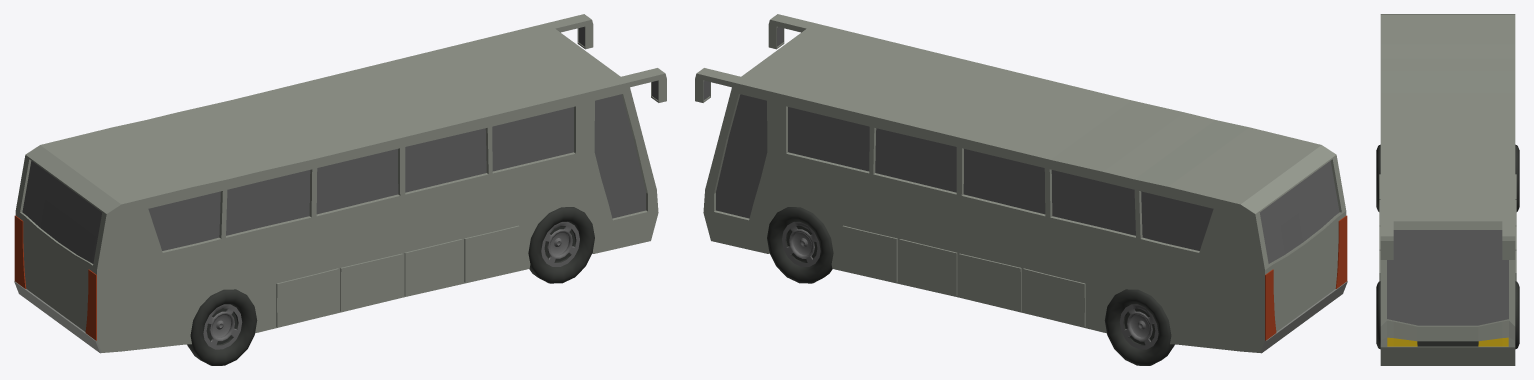
File: bus.fbx
The picture shows the model from 3 angles, left to right: view 1: azimuth 30°, elevation 25°; view 2: azimuth 150°, elevation 25°; view 3: azimuth 270°, elevation 25°; orthographic projection. The views are drawn at different scales.
Visible parts, largest first — view 1: Bus; view 2: Bus; view 3: Bus.
Boxes of the visible parts, <box> form: Bus: <box>14,14,666,365</box>; Bus: <box>695,14,1347,365</box>; Bus: <box>1376,14,1519,365</box>.
Size of the model in its own units: 4465 by 1389 by 1172.
